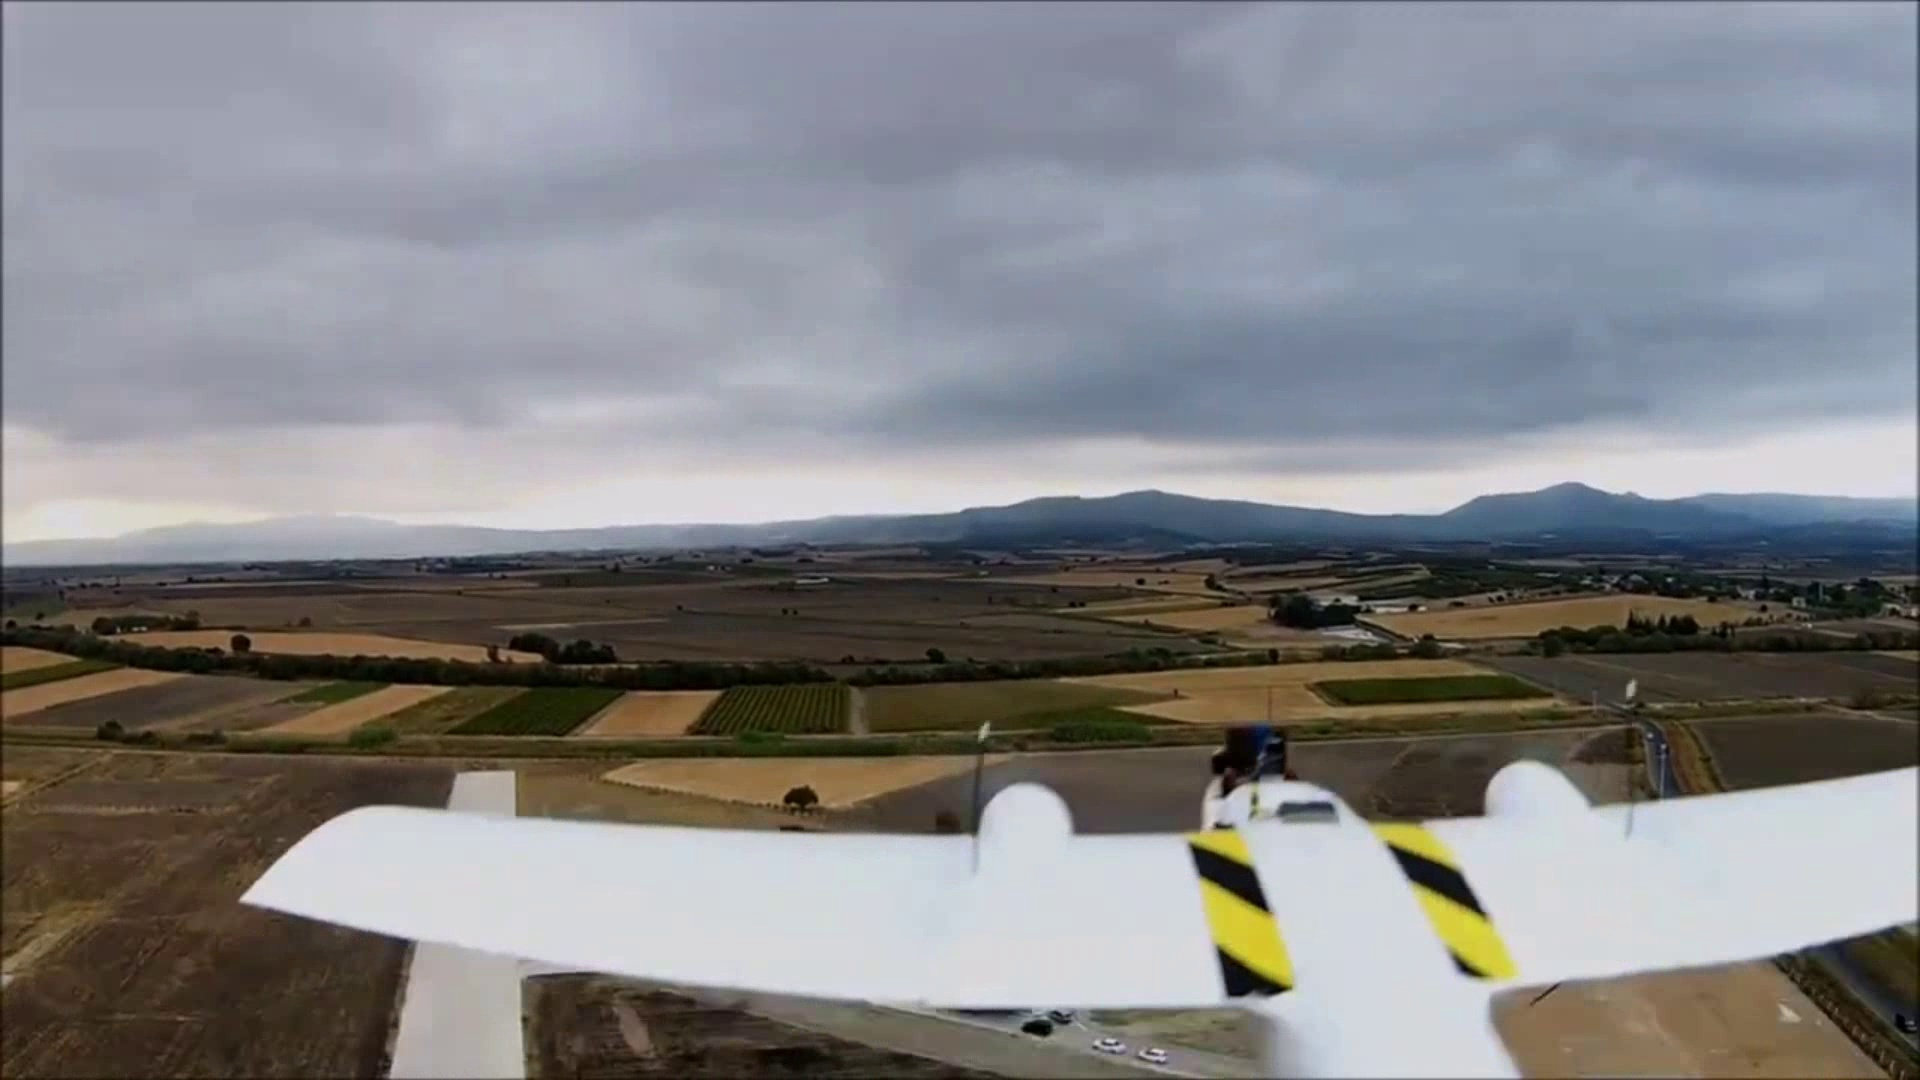airplane: (216, 767, 1909, 1068)
